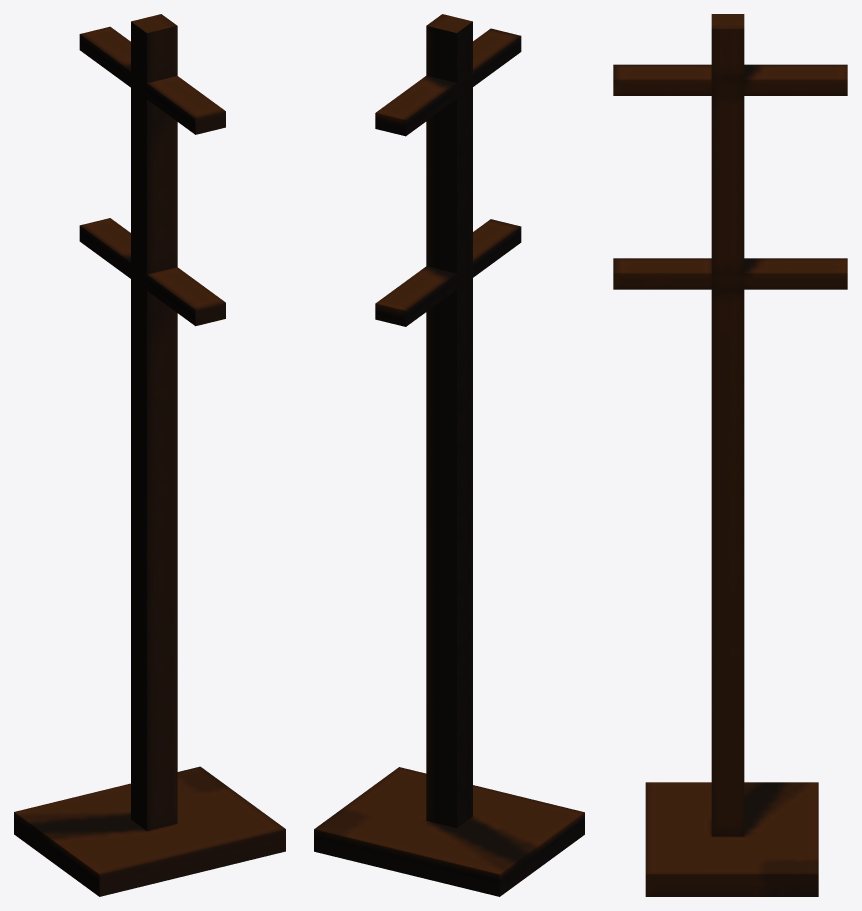
The model's file is Tx_props_coat_hanger.fbx.
3 renders of one model, left to right at view 1: azimuth 30°, elevation 25°; view 2: azimuth 150°, elevation 25°; view 3: azimuth 270°, elevation 25°, orthographic.
Parts seen in each view (by area): view 1: Tx_props_coat_hanger; view 2: Tx_props_coat_hanger; view 3: Tx_props_coat_hanger.
Boxes of the visible parts, x1=… form: Tx_props_coat_hanger: x1=14, y1=14, x2=285, y2=896; Tx_props_coat_hanger: x1=314, y1=14, x2=584, y2=896; Tx_props_coat_hanger: x1=613, y1=14, x2=847, y2=896.
Bounding box in the file's own units: 2.26 × 9.52 × 2.43.
